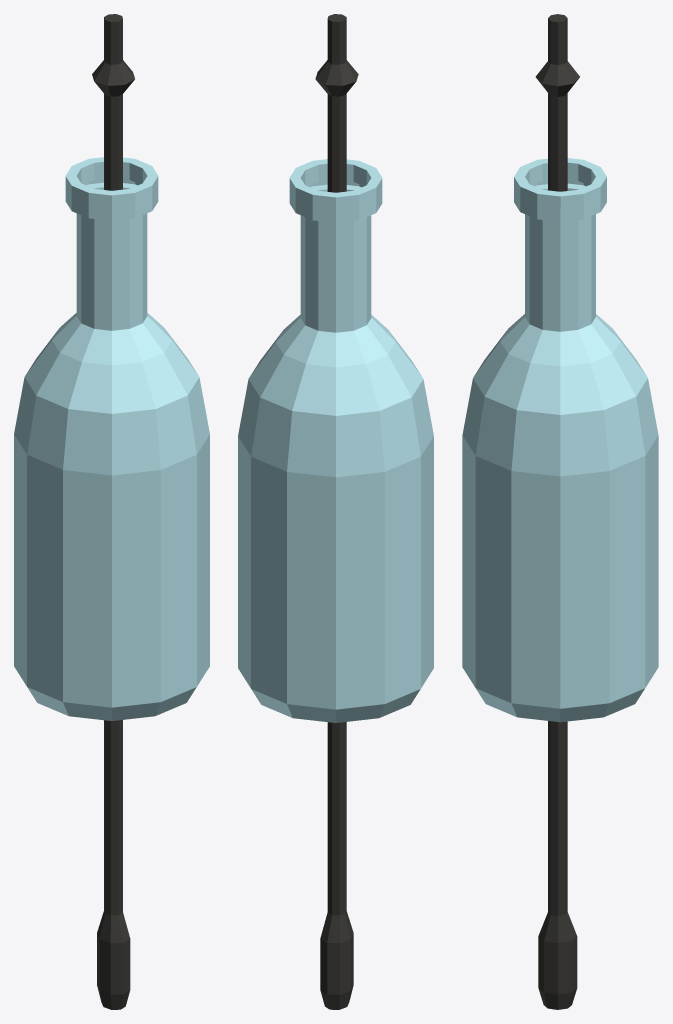
File: bottlechime.fbx
3 renders of one model, left to right at view 1: azimuth 30°, elevation 25°; view 2: azimuth 150°, elevation 25°; view 3: azimuth 270°, elevation 25°, orthographic.
Visible parts, largest first — view 1: chime1, chime1sting; view 2: chime1, chime1sting; view 3: chime1, chime1sting.
Boxes of the visible parts, <box> form: chime1: <box>14,157,209,720</box>; chime1sting: <box>92,14,134,1009</box>; chime1: <box>238,159,433,722</box>; chime1sting: <box>315,14,358,1009</box>; chime1: <box>462,158,658,722</box>; chime1sting: <box>535,14,579,1009</box>.
Size of the model in its own units: 16 by 88.87 by 16.
